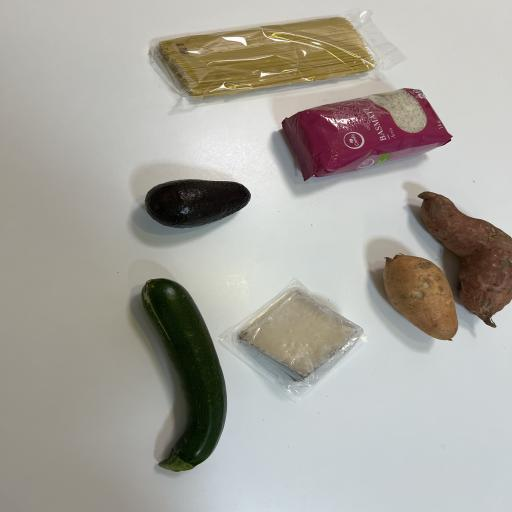avocado: (138, 172, 269, 234)
courgette: (130, 274, 237, 475)
cured_goat_cheese: (229, 280, 363, 388)
rice: (271, 81, 457, 183)
spaghetti: (149, 12, 385, 104)
sweet_potato: (409, 183, 512, 330), (374, 246, 473, 344)
